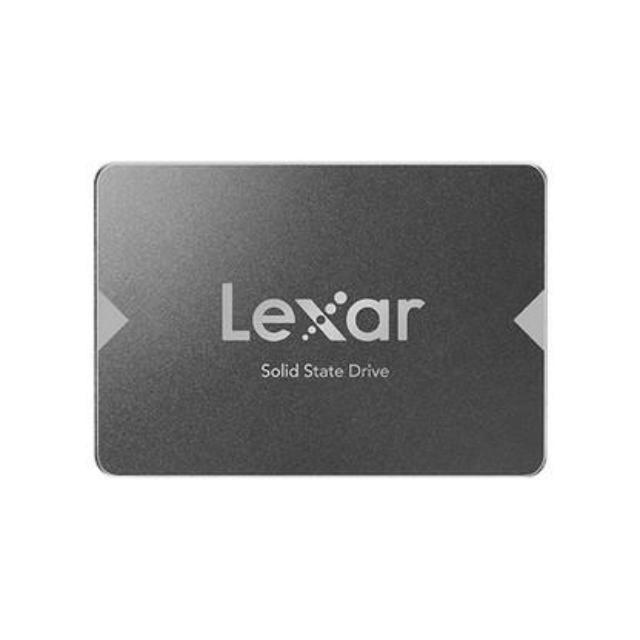DISK: (84, 157, 556, 485)
